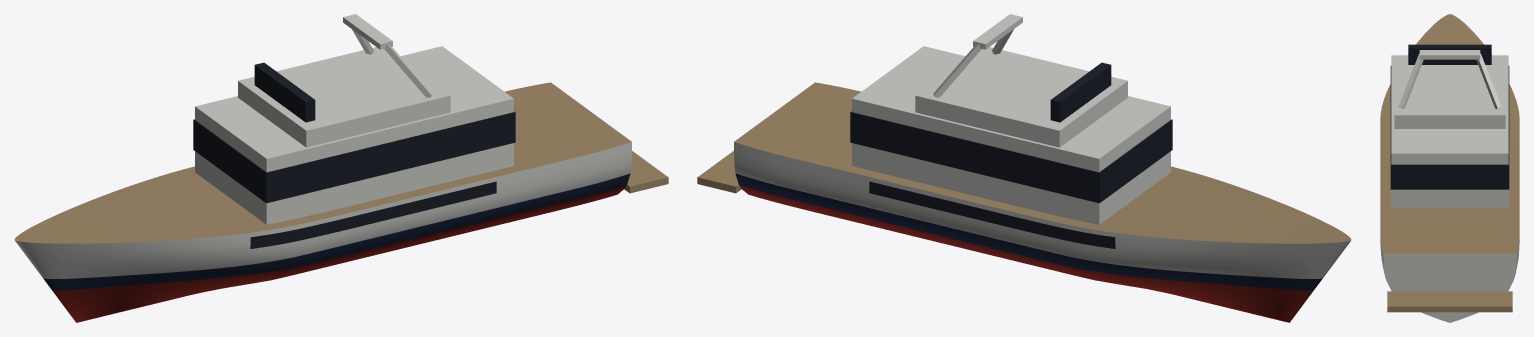
File: motor_yacht.glb
3 renders of one model, left to right at view 1: azimuth 30°, elevation 25°; view 2: azimuth 150°, elevation 25°; view 3: azimuth 270°, elevation 25°, orthographic. The views are drawn at different scales.
Parts seen in each view (by area): view 1: motor_yacht; view 2: motor_yacht; view 3: motor_yacht.
Part boxes in pixels (x1,y1,x2,y2): motor_yacht: (14,14,668,322); motor_yacht: (697,14,1351,322); motor_yacht: (1380,14,1519,322).
Size of the model in its own units: 19.12 by 6.61 by 4.6.
